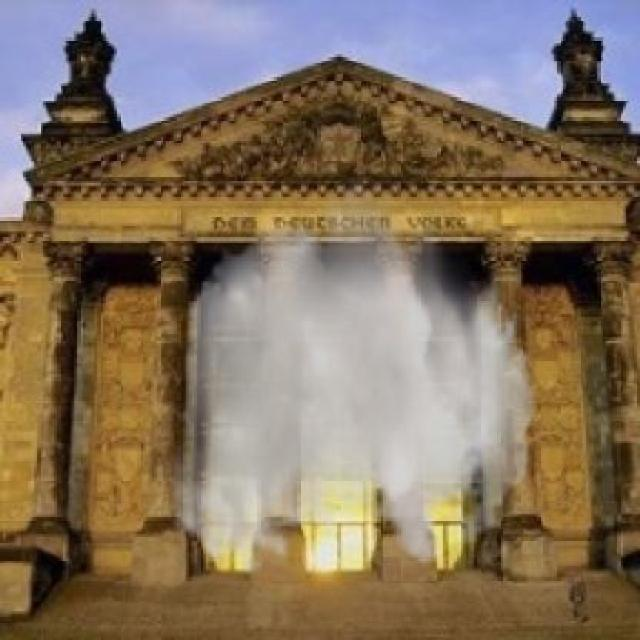smoke: (174, 209, 537, 560)
